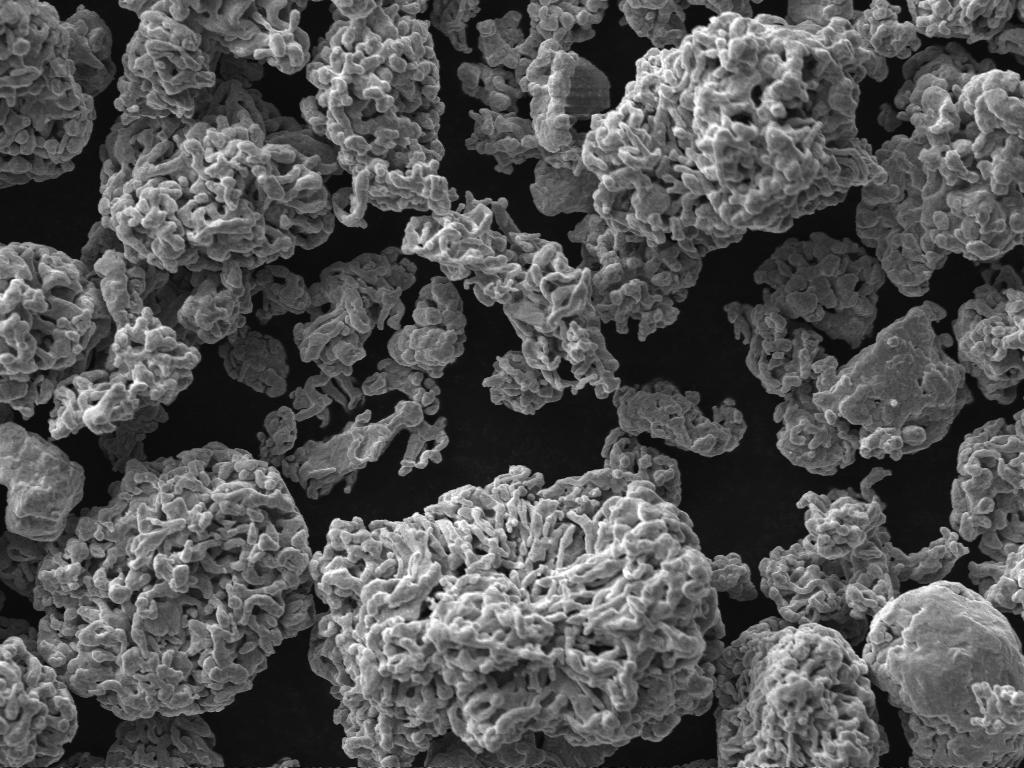Powder: (310, 430, 724, 766), (302, 0, 618, 411), (574, 12, 886, 337), (34, 442, 314, 720), (726, 232, 972, 475), (100, 82, 338, 272), (0, 242, 200, 463), (856, 46, 1024, 295), (760, 468, 968, 644), (458, 0, 610, 215), (864, 582, 1024, 765), (716, 618, 888, 766), (116, 0, 310, 121), (290, 248, 416, 425), (0, 1, 116, 187), (258, 400, 448, 498), (176, 262, 310, 395), (950, 410, 1024, 615), (362, 276, 466, 415), (786, 0, 920, 80), (614, 380, 746, 456), (952, 264, 1024, 403), (0, 422, 84, 541), (0, 636, 76, 765), (618, 0, 752, 48), (106, 714, 224, 767), (618, 0, 686, 48), (430, 0, 480, 53), (710, 552, 758, 601)
